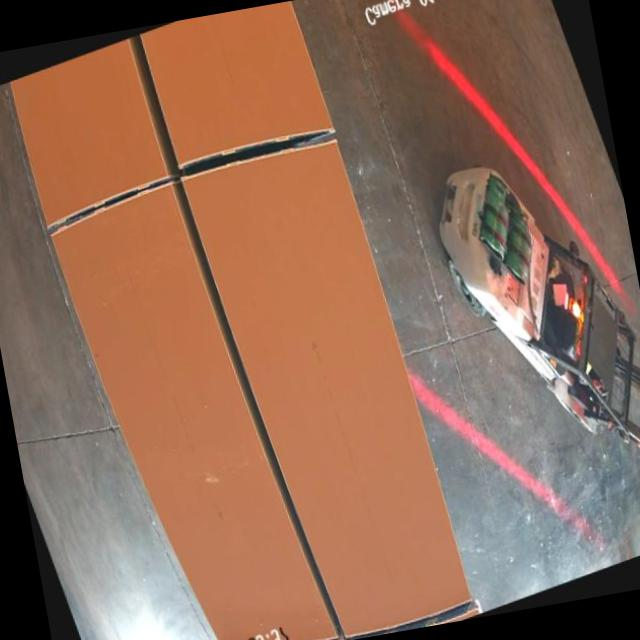forklift: (409, 116, 640, 503)
